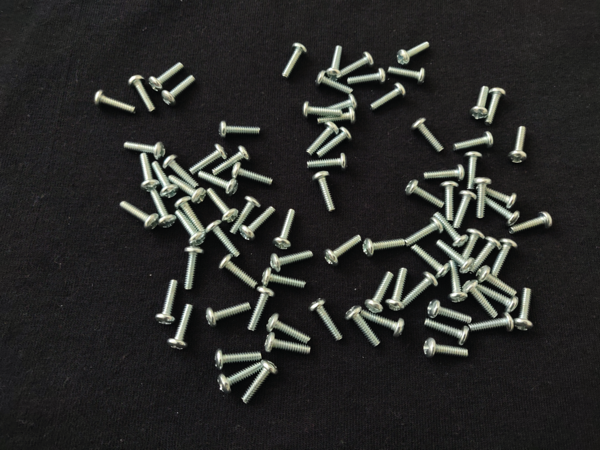shortscrew: (239, 359, 279, 405), (465, 234, 505, 277), (217, 361, 264, 397), (309, 296, 344, 342), (345, 304, 381, 348), (217, 254, 260, 290), (267, 312, 312, 346), (399, 271, 439, 309), (165, 303, 196, 352), (205, 218, 242, 259), (410, 243, 451, 280), (463, 278, 499, 320), (474, 282, 521, 314), (475, 266, 520, 299), (473, 180, 520, 211), (361, 309, 405, 342), (160, 153, 200, 189), (246, 286, 276, 333), (212, 144, 254, 177), (174, 195, 207, 237), (424, 317, 470, 347), (239, 205, 277, 241), (433, 211, 469, 249), (229, 194, 262, 235), (403, 216, 445, 248), (92, 89, 138, 118), (206, 300, 252, 329), (489, 236, 520, 279), (324, 234, 363, 268), (437, 240, 476, 274), (154, 279, 181, 328), (364, 271, 394, 315), (118, 200, 160, 231), (411, 117, 446, 154), (188, 143, 228, 175), (161, 73, 198, 107), (175, 208, 208, 246), (483, 194, 521, 227), (508, 209, 554, 236), (147, 189, 178, 229), (406, 179, 446, 210), (263, 266, 307, 294), (304, 121, 339, 156), (427, 299, 474, 325), (167, 175, 207, 205), (264, 332, 312, 357), (449, 189, 479, 229), (196, 170, 240, 197), (207, 187, 239, 224), (315, 127, 353, 158), (127, 74, 157, 113), (270, 248, 315, 274), (150, 160, 179, 200), (384, 267, 409, 313), (369, 82, 407, 112), (423, 338, 470, 362), (150, 61, 185, 93), (122, 136, 166, 161), (444, 260, 469, 304), (458, 227, 486, 266), (312, 171, 338, 213), (280, 41, 308, 80), (336, 50, 375, 78), (315, 69, 355, 96), (214, 348, 263, 370), (231, 161, 274, 186), (272, 208, 297, 251), (136, 151, 162, 192), (363, 234, 407, 258), (470, 312, 515, 335), (483, 86, 509, 125), (183, 244, 204, 292), (506, 124, 530, 165), (453, 131, 496, 153), (517, 286, 536, 334), (397, 40, 432, 66), (463, 151, 484, 194), (440, 180, 461, 221), (315, 107, 360, 126), (388, 65, 428, 86), (423, 164, 467, 183), (474, 176, 493, 220), (470, 85, 492, 123), (307, 153, 350, 172), (217, 120, 262, 138), (300, 101, 343, 119), (348, 67, 387, 86), (326, 44, 344, 80)
